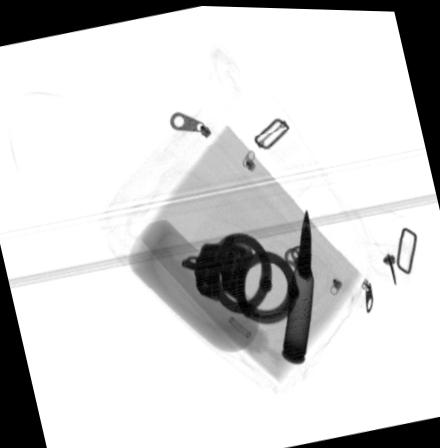Bullet: (281, 207, 315, 361)
HandCuffs: (181, 229, 297, 321)
